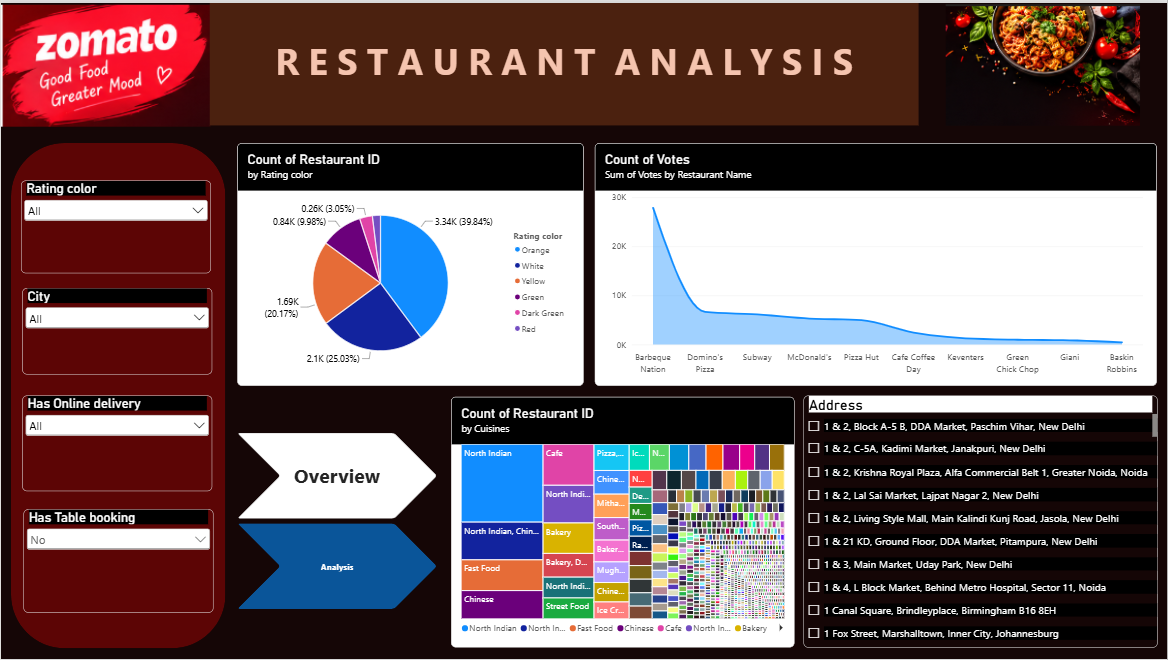

What the dashboard file says about the page in this screenshot:
{"tool":"powerbi","page":{"name":"Analysis","canvas":[1920,1080],"ordinal":1},"visuals":[{"type":"image","box":[0,2.1,344.7,202.1],"z":0},{"type":"textbox","box":[343.7,0,1167.1,201.7],"z":1000},{"type":"image","box":[1510.8,2.1,409.6,199.7],"z":2000},{"type":"shape","box":[17,229.8,353.2,831.9],"z":3000},{"type":"slicer","fields":{"Values":["Zomato Restaurant Dataset.Rating color"]},"box":[31.9,291.5,312.8,153.2],"z":4000},{"type":"slicer","fields":{"Values":["Zomato Restaurant Dataset.City"]},"box":[34,470.2,312.8,142.6],"z":5000},{"type":"slicer","fields":{"Values":["Zomato Restaurant Dataset.Has Online delivery"]},"box":[34,646.8,312.8,157.4],"z":6000},{"type":"slicer","fields":{"Values":["Zomato Restaurant Dataset.Has Table booking"]},"box":[36.2,834,312.8,170.2],"z":7000},{"type":"pieChart","fields":{"Category":["Zomato Restaurant Dataset.Rating color"],"Y":["CountNonNull(Zomato Restaurant Dataset.Restaurant ID)"]},"box":[389.4,229.8,570.2,400],"z":8000},{"type":"areaChart","title":"Count of Votes","fields":{"Category":["Zomato Restaurant Dataset.Restaurant Name"],"Y":["Sum(Zomato Restaurant Dataset.Votes)"]},"box":[978.7,229.8,925.5,400],"z":9000},{"type":"treemap","fields":{"Group":["Zomato Restaurant Dataset.Cuisines"],"Values":["CountNonNull(Zomato Restaurant Dataset.Restaurant ID)"]},"box":[740.4,648.9,566,412.8],"z":10000},{"type":"slicer","fields":{"Values":["Zomato Restaurant Dataset.Address"]},"box":[1321.3,646.8,583,414.9],"z":11000},{"type":"pageNavigator","box":[389,708.1,329.3,290.2],"z":12000}]}

Visuals, with their boxes in screenshot pixels (x1, y1, x2, y2), scaled from the page's 1920x1080 canvas onto the 1168x660 screenshot:
image: bbox=[0, 1, 210, 125]
textbox: bbox=[209, 0, 919, 123]
image: bbox=[919, 1, 1167, 123]
shape: bbox=[10, 140, 225, 649]
slicer - Zomato Restaurant Dataset.Rating color: bbox=[19, 178, 210, 272]
slicer - Zomato Restaurant Dataset.City: bbox=[21, 287, 211, 374]
slicer - Zomato Restaurant Dataset.Has Online delivery: bbox=[21, 395, 211, 491]
slicer - Zomato Restaurant Dataset.Has Table booking: bbox=[22, 510, 212, 614]
pieChart - Zomato Restaurant Dataset.Rating color x CountNonNull(Zomato Restaurant Dataset.Restaurant ID): bbox=[237, 140, 584, 385]
"Count of Votes" areaChart: bbox=[595, 140, 1158, 385]
treemap - Zomato Restaurant Dataset.Cuisines x CountNonNull(Zomato Restaurant Dataset.Restaurant ID): bbox=[450, 397, 795, 649]
slicer - Zomato Restaurant Dataset.Address: bbox=[804, 395, 1158, 649]
pageNavigator: bbox=[237, 433, 437, 610]
